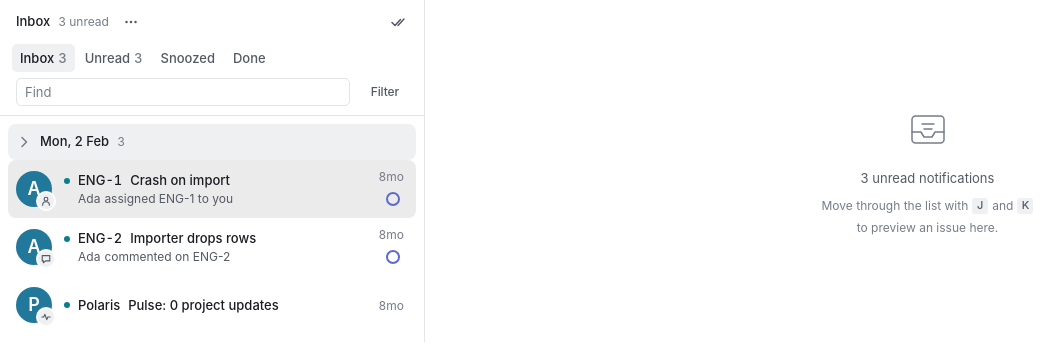
Inbox row status › opens the status picker without opening or reading the notification
Click the button named "Todo" next to "assigned ENG-1 to you": (393, 198) [382,188,404,210]
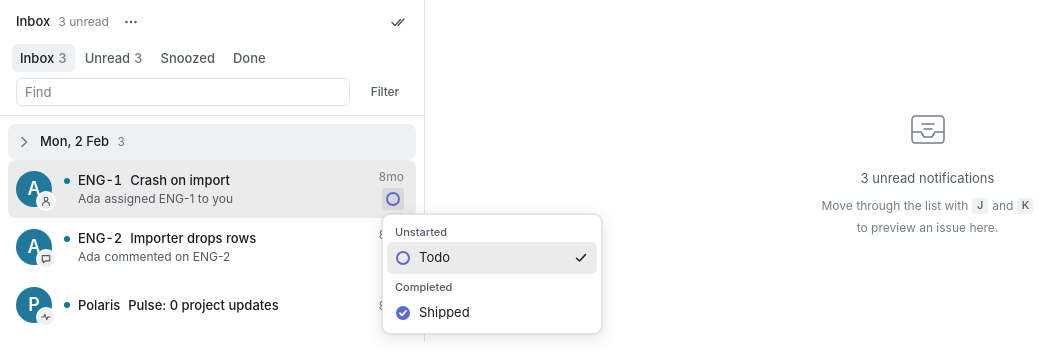
Result: the menu named "Status" is shown at [387,218,597,328]
